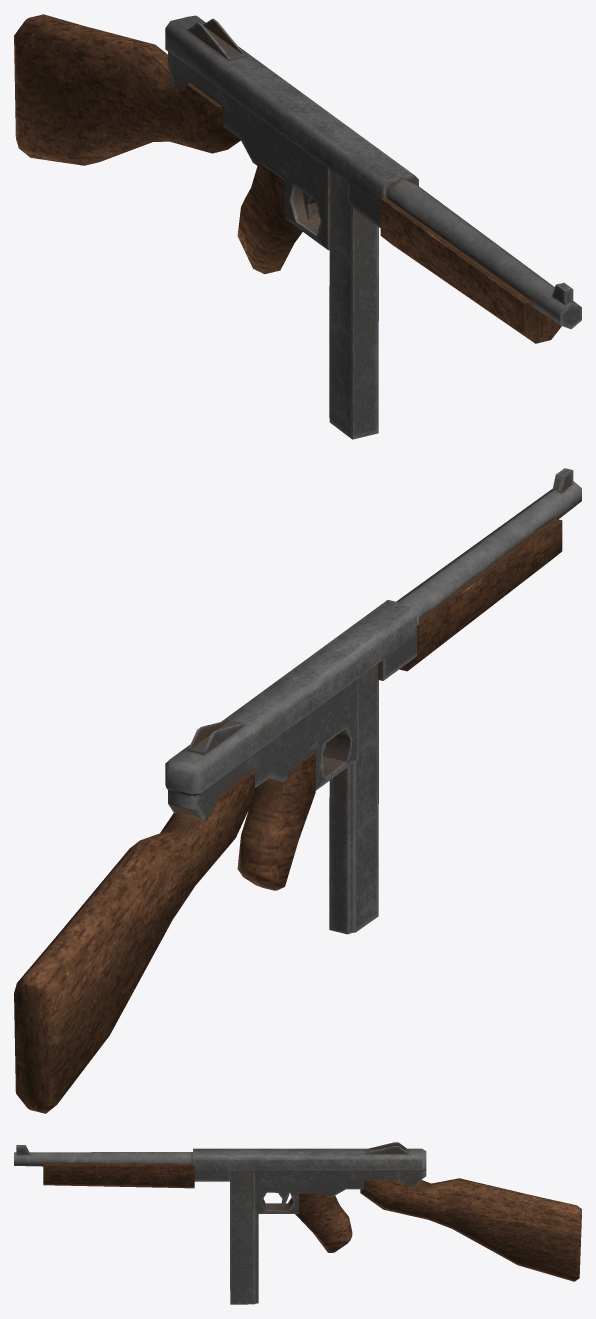
File: thompson.glb
The picture shows the model from 3 angles, top to bottom: view 1: azimuth 30°, elevation 25°; view 2: azimuth 150°, elevation 25°; view 3: azimuth 270°, elevation 25°; orthographic projection. The views are drawn at different scales.
Visible parts, largest first — view 1: Thompson; view 2: Thompson; view 3: Thompson.
Boxes of the visible parts, bbox=[...] form: Thompson: bbox=[14, 14, 581, 439]; Thompson: bbox=[14, 468, 581, 1113]; Thompson: bbox=[14, 1142, 581, 1304].
Size of the model in its own units: 0.0717 by 0.5342 by 1.75.
1 material, 1 textured.
